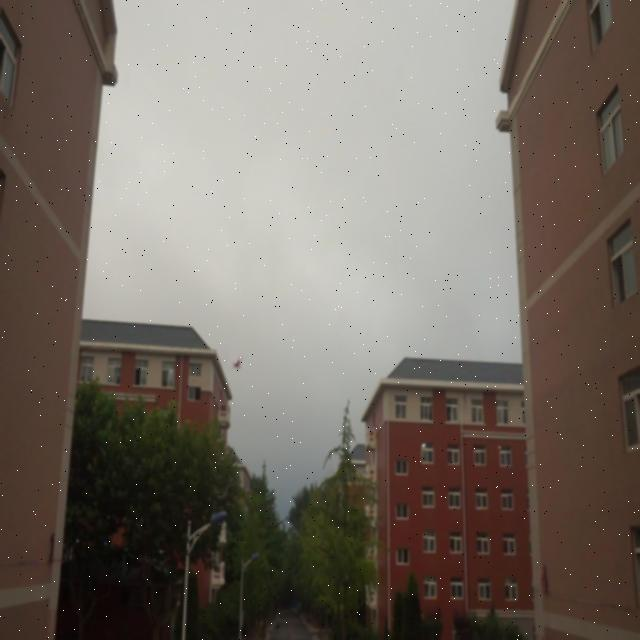UAV: (232, 356, 243, 372)
